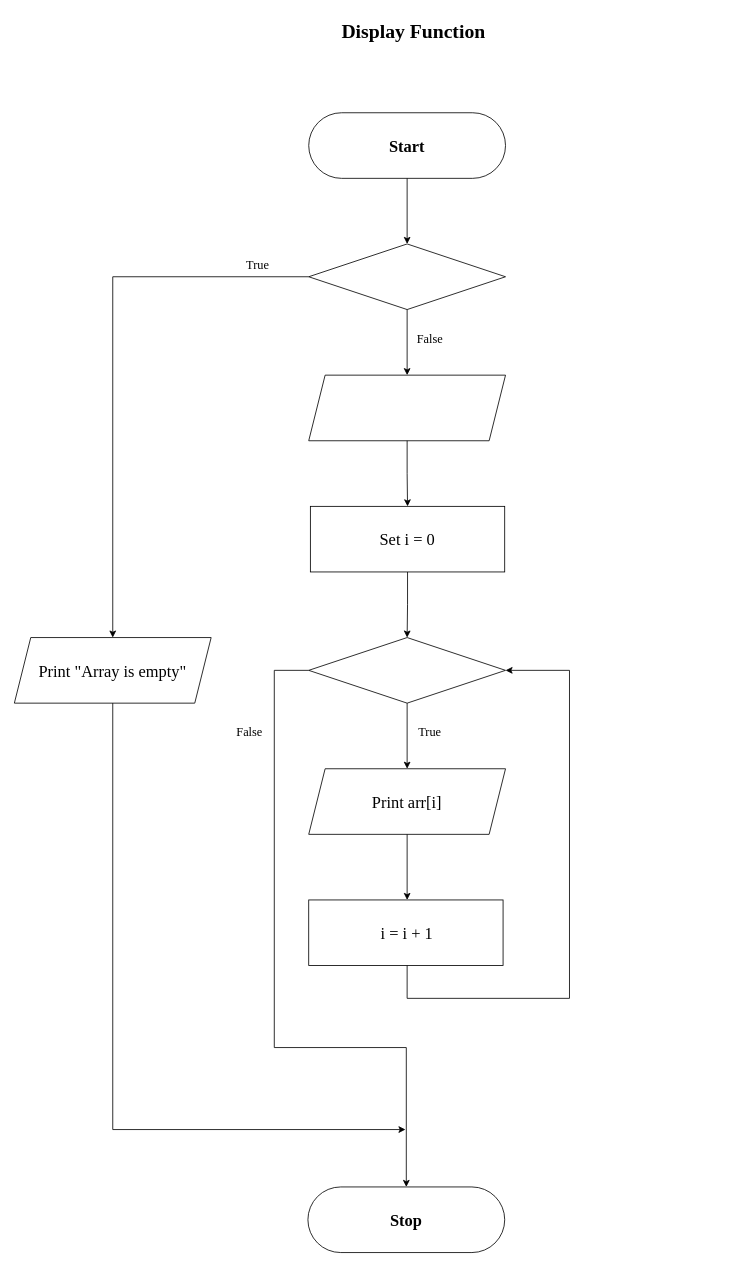
Image size: 731x1267. Some labels were removed from this diagram. Each missing label, with the centre of its shape:
If i < size: [407,670]
If size = 0: [407,276]
Print "Array elements: ": [407,407]
